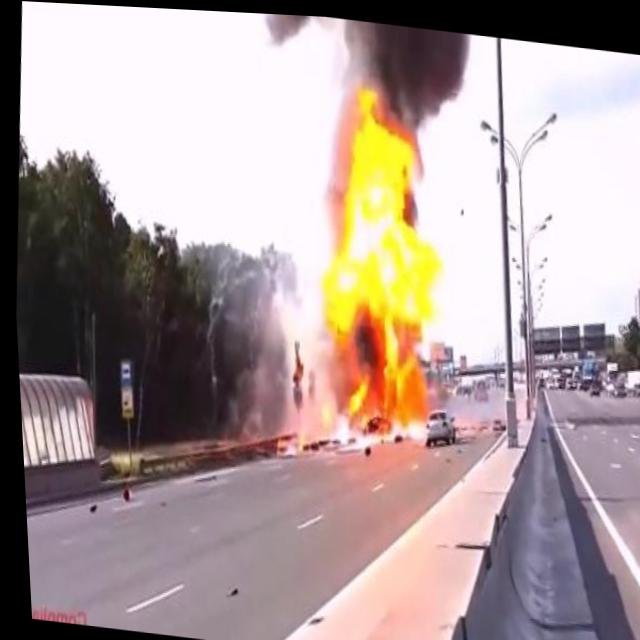fire: (301, 69, 461, 346), (328, 335, 428, 451), (268, 417, 301, 453)
